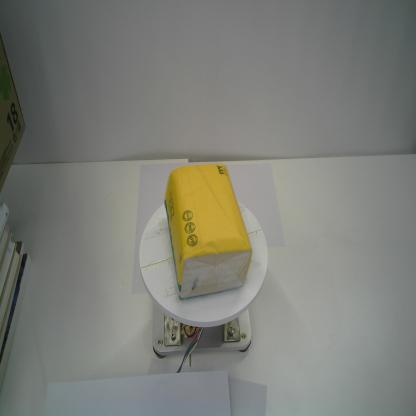Tissue: (165, 160, 252, 301)
